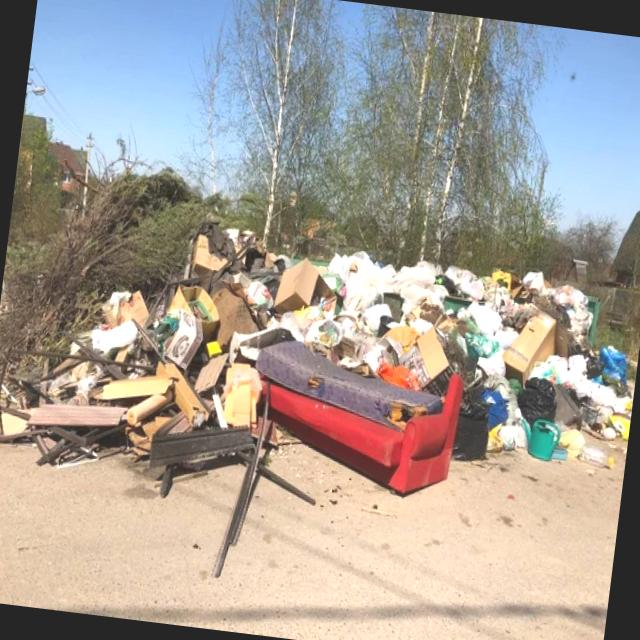garbage: (157, 213, 640, 518)
